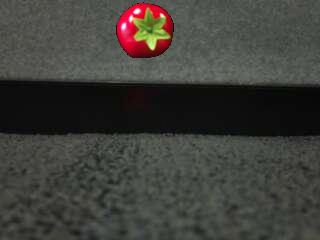Tomato: (116, 3, 174, 60)
